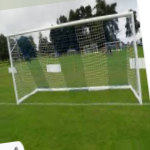goals: (5, 11, 145, 110)
